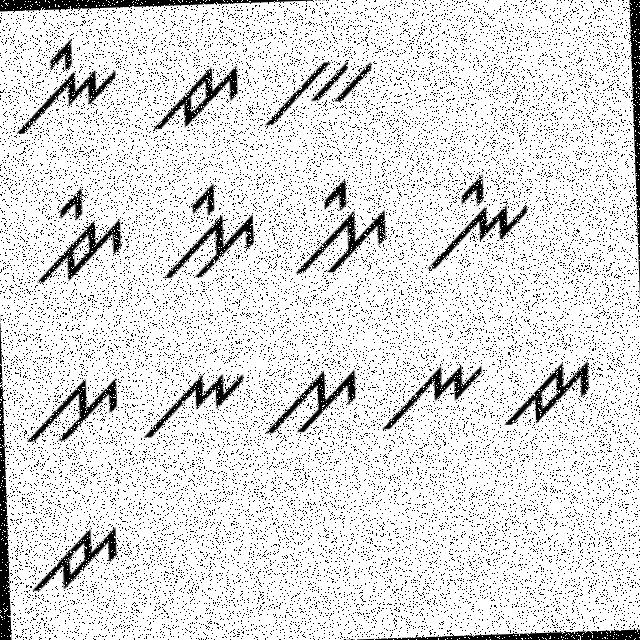ja: (500, 348, 598, 442), (27, 508, 128, 598), (150, 64, 248, 134)
ji: (27, 177, 127, 288)
nya: (376, 351, 484, 447), (134, 356, 249, 446)
nyi: (414, 160, 536, 279), (3, 32, 123, 137)
sa: (18, 358, 123, 449), (257, 356, 366, 442)
si: (279, 166, 396, 280), (158, 182, 260, 285)
